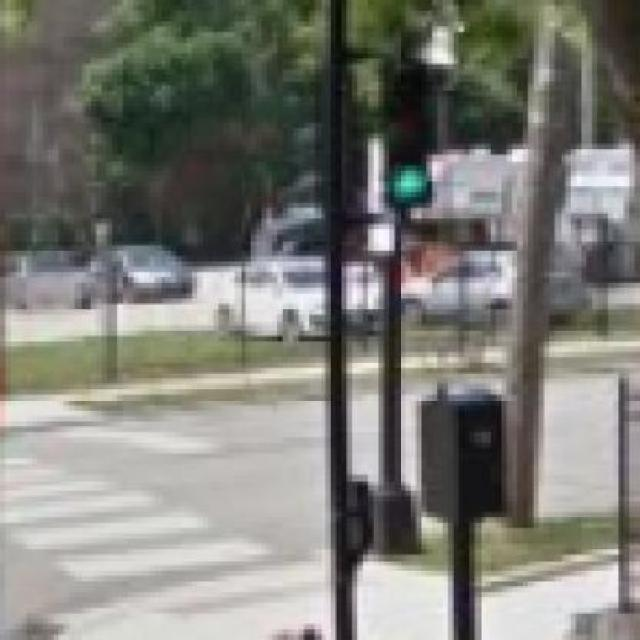crosswalk: (1, 451, 325, 616)
